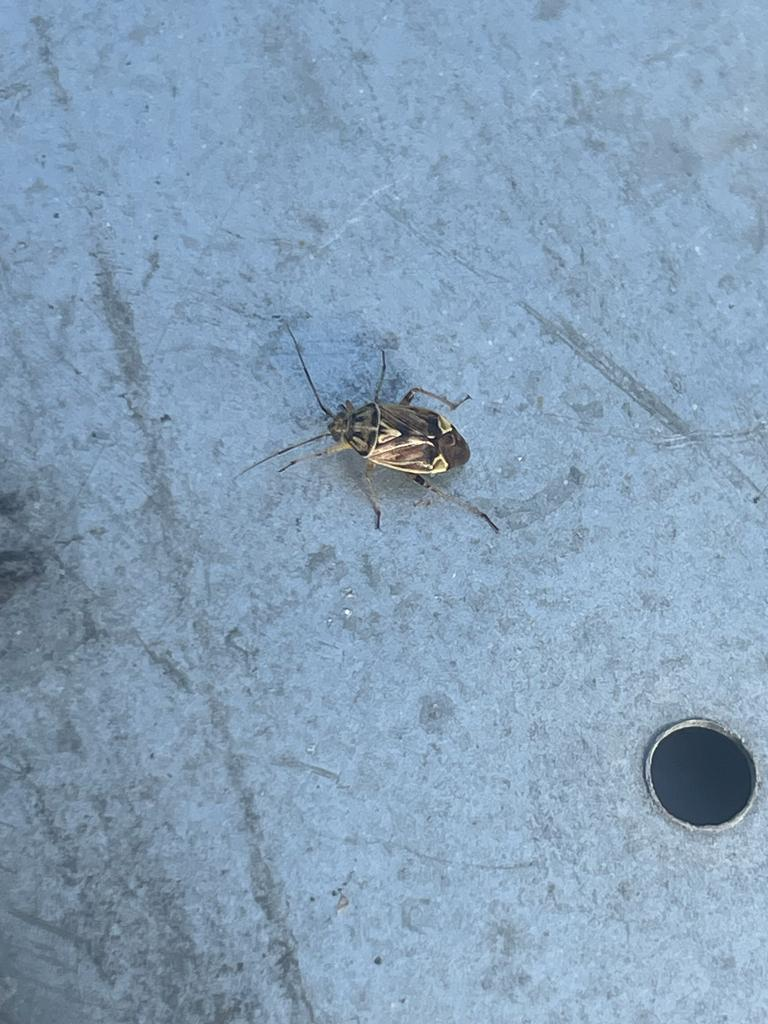plant_bugs: (217, 290, 525, 562)
